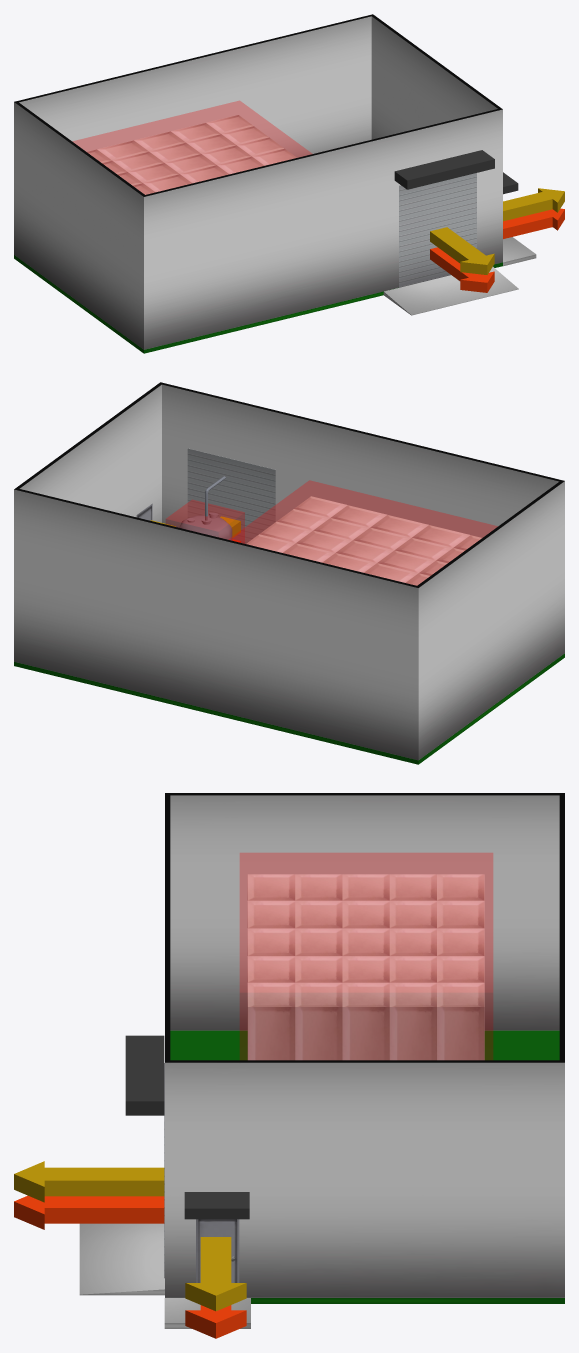
File: soulbrain_T9-4-1F.glb
3 views of the same model, one above another, from view 1: azimuth 30°, elevation 25°; view 2: azimuth 150°, elevation 25°; view 3: azimuth 270°, elevation 25° (orthographic). The views are drawn at different scales.
Visible parts, largest first — view 1: Box507, equipment-T9-4-1F-001, Box2002, T9-4-1F, Box867, Box865, Box864, arrow_Y_2_T9-4-1F, arrow_Y_1_T9-4-1F, arrow_R_1_T9-4-1F, arrow_R_1_T9-4-1F (1); view 2: Box507, equipment-T9-4-1F-001, Box2002, T9-4-1F, Box864, equipment-T9-4-1F-003, ChamferCyl148; view 3: Box507, equipment-T9-4-1F-001, Box2002, Box867, Box864, Box865, arrow_Y_2_T9-4-1F, arrow_R_1_T9-4-1F, arrow_Y_1_T9-4-1F, T9-4-1F, arrow_R_1_T9-4-1F (1).
Part boxes in pixels (x1,y1,x2,y2): Box507: (14,14,502,349); equipment-T9-4-1F-001: (73,101,311,194); Box2002: (87,115,296,194); T9-4-1F: (399,173,476,287); Box867: (383,237,536,315); Box865: (394,150,518,194); Box864: (14,255,502,353); arrow_Y_2_T9-4-1F: (430,227,494,274); arrow_Y_1_T9-4-1F: (503,188,564,221); arrow_R_1_T9-4-1F: (430,247,494,292); arrow_R_1_T9-4-1F (1): (503,208,564,238); Box507: (14,382,564,760); equipment-T9-4-1F-001: (229,480,497,585); Box2002: (246,496,481,585); T9-4-1F: (136,448,275,543); Box864: (14,653,564,764); equipment-T9-4-1F-003: (166,500,244,543); ChamferCyl148: (179,476,232,540); Box507: (165,793,564,1297); equipment-T9-4-1F-001: (240,853,492,1059); Box2002: (247,874,484,1060); Box867: (79,1223,250,1328); Box864: (170,1030,564,1303); Box865: (125,1035,249,1219); arrow_Y_2_T9-4-1F: (14,1161,164,1202); arrow_R_1_T9-4-1F: (14,1195,164,1229); arrow_Y_1_T9-4-1F: (185,1237,246,1311); T9-4-1F: (164,1063,239,1282); arrow_R_1_T9-4-1F (1): (185,1305,246,1338).
Bounding box in the file's own units: 17.98 × 6.16 × 12.74.
16 materials, 10 textured.
